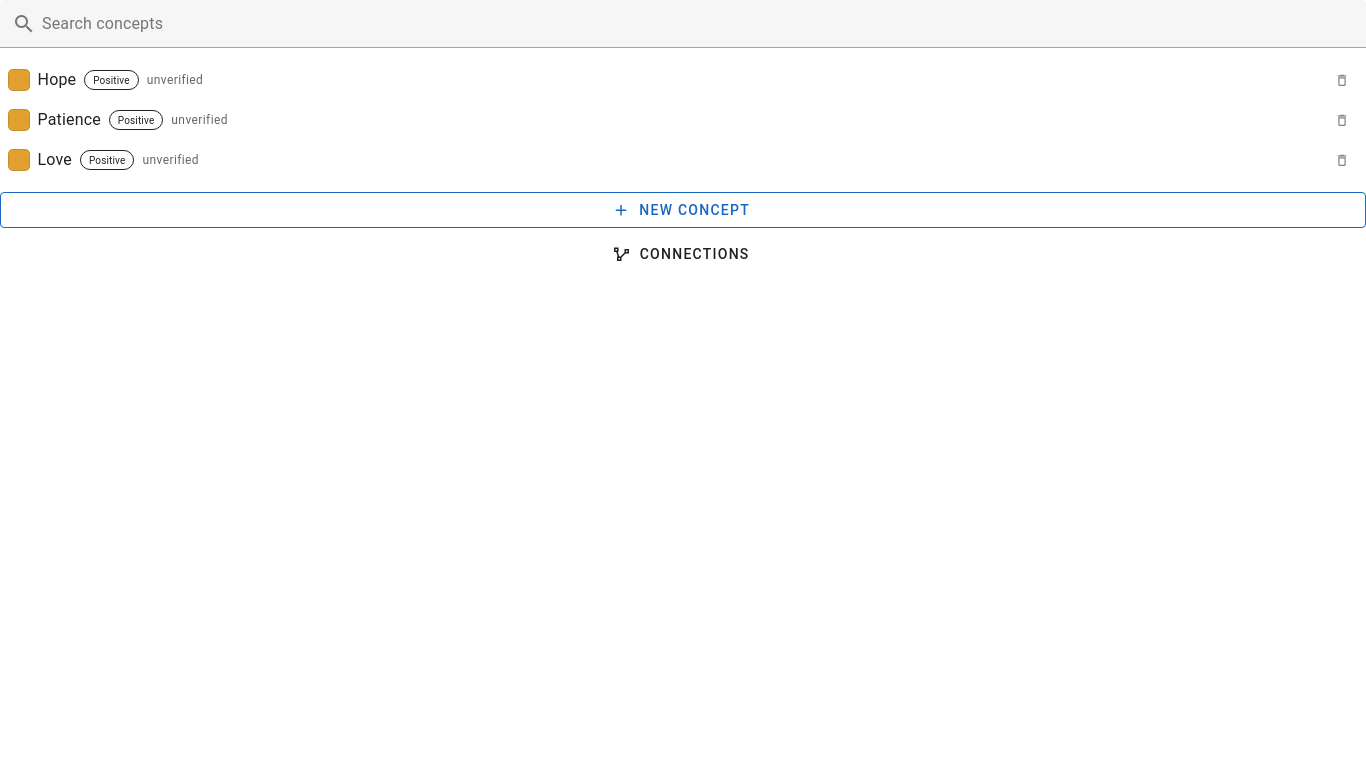
Scenario: ConceptLibrary › delete flow › trash button opens the confirm dialog without toggling the row
Click the 1st button with test id "concept-delete" at [1342, 80], box [1326, 64, 1358, 96]
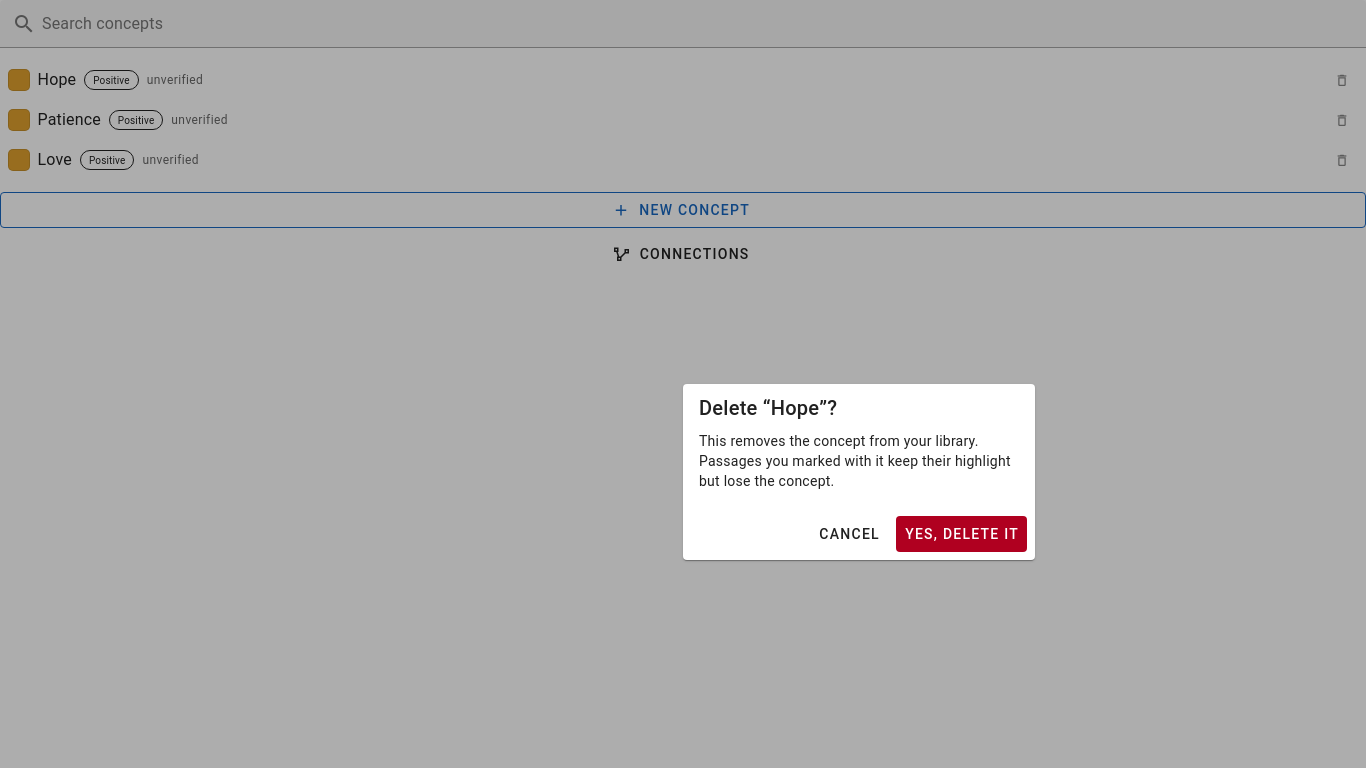
Now the text "Delete “Hope”?" is shown, box [699, 396, 837, 420]
